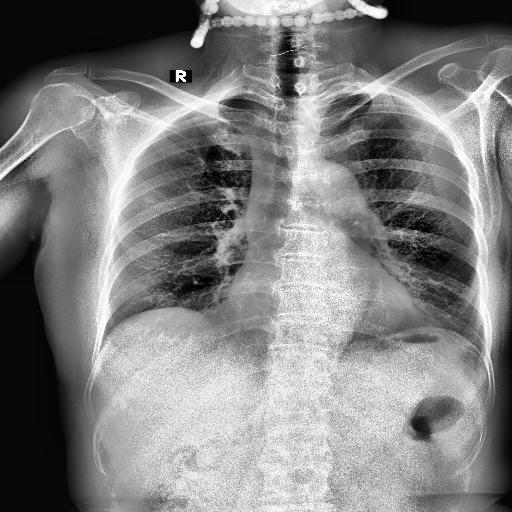0- Aortic enlargement: (286, 159, 368, 229), (294, 164, 376, 234), (296, 161, 367, 225)
3- Cardiomegaly: (214, 290, 414, 338)
